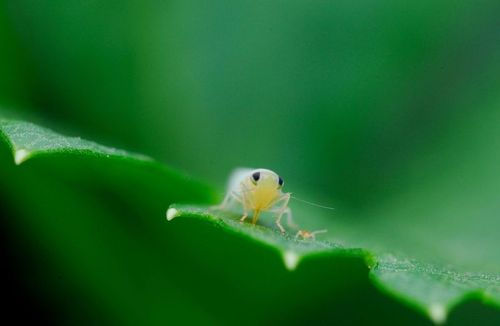Cicadellidae: (217, 166, 298, 232)
